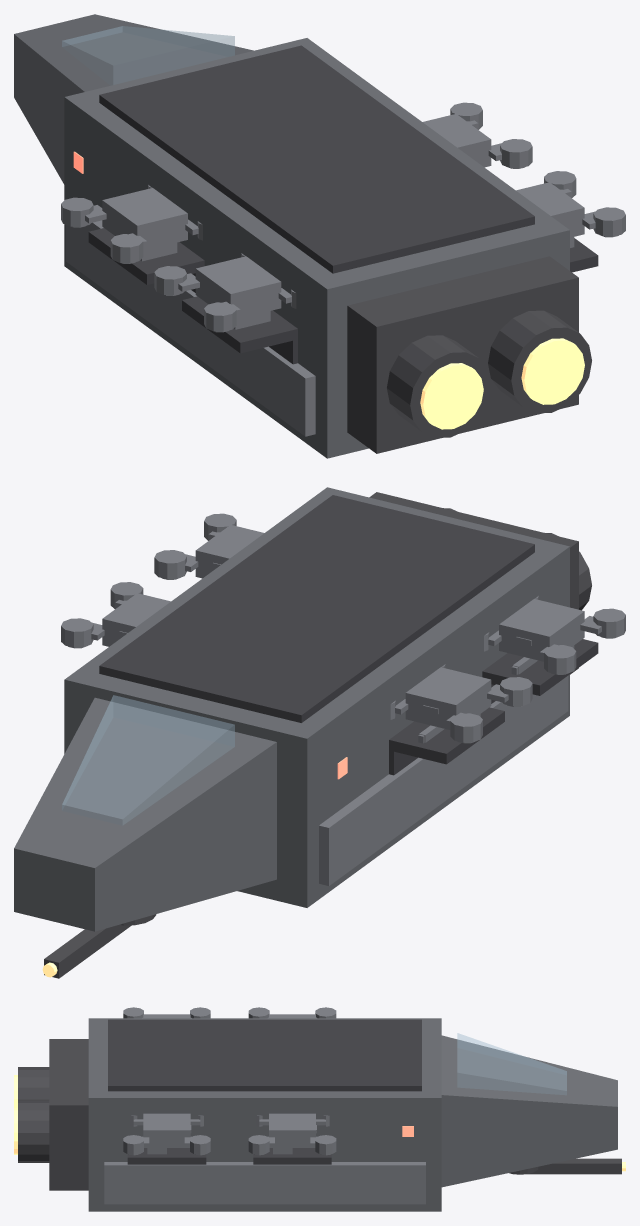
File: ship_XS_MINER.glb
3 views of the same model, one above another, from view 1: azimuth 30°, elevation 25°; view 2: azimuth 150°, elevation 25°; view 3: azimuth 270°, elevation 25° (orthographic). The views are drawn at different scales.
Parts seen in each view (by area): view 1: XS_MINER_Hull-col, XS_MINER_HoldHatch-col, XS_MINER_Engines, XS_MINER_Armor, XS_MINER_EngineGlow, XS_MINER_Glass-col, XS_MINER_Drone_1, XS_MINER_Drone_2, XS_MINER_Trim, XS_MINER_Drone_3, XS_MINER_Drone_4; view 2: XS_MINER_Hull-col, XS_MINER_HoldHatch-col, XS_MINER_Glass-col, XS_MINER_Armor, XS_MINER_Drone_2, XS_MINER_Drone_1, XS_MINER_Trim, XS_MINER_Drone_4, XS_MINER_Drone_3, XS_MINER_Engines, XS_MINER_MiningLaser; view 3: XS_MINER_Hull-col, XS_MINER_HoldHatch-col, XS_MINER_Armor, XS_MINER_Engines, XS_MINER_Glass-col, XS_MINER_Drone_4, XS_MINER_Drone_3, XS_MINER_Trim, XS_MINER_MiningLaser, XS_MINER_Drone_2, XS_MINER_Drone_1, XS_MINER_EngineGlow.
Part boxes in pixels (x1,y1,x2,y2): XS_MINER_Hull-col: (14, 14, 569, 458); XS_MINER_HoldHatch-col: (99, 45, 534, 273); XS_MINER_Engines: (347, 256, 591, 453); XS_MINER_Armor: (66, 220, 315, 436); XS_MINER_EngineGlow: (420, 338, 584, 429); XS_MINER_Glass-col: (62, 26, 234, 84); XS_MINER_Drone_1: (154, 253, 296, 332); XS_MINER_Drone_2: (61, 185, 202, 263); XS_MINER_Trim: (88, 228, 598, 364); XS_MINER_Drone_3: (516, 171, 625, 247); XS_MINER_Drone_4: (422, 102, 532, 168); XS_MINER_Hull-col: (14, 487, 569, 931); XS_MINER_HoldHatch-col: (99, 495, 534, 722); XS_MINER_Glass-col: (62, 695, 234, 825); XS_MINER_Armor: (319, 676, 568, 885); XS_MINER_Drone_2: (390, 664, 532, 743); XS_MINER_Drone_1: (484, 596, 625, 674); XS_MINER_Trim: (389, 639, 598, 775); XS_MINER_Drone_4: (61, 582, 170, 648); XS_MINER_Drone_3: (154, 513, 264, 579); XS_MINER_Engines: (369, 492, 591, 674); XS_MINER_MiningLaser: (44, 914, 156, 978); XS_MINER_Hull-col: (88, 1018, 617, 1211); XS_MINER_HoldHatch-col: (108, 1019, 421, 1091); XS_MINER_Armor: (104, 1162, 425, 1204); XS_MINER_Engines: (18, 1039, 88, 1190); XS_MINER_Glass-col: (457, 1033, 566, 1094); XS_MINER_Drone_4: (248, 1113, 336, 1155); XS_MINER_Drone_3: (123, 1113, 210, 1155); XS_MINER_Trim: (127, 1148, 331, 1164); XS_MINER_MiningLaser: (509, 1158, 621, 1174); XS_MINER_Drone_2: (248, 1007, 336, 1018); XS_MINER_Drone_1: (123, 1007, 210, 1018); XS_MINER_EngineGlow: (14, 1075, 17, 1154).
Size of the model in its own units: 8.26 by 3.75 by 15.6.
